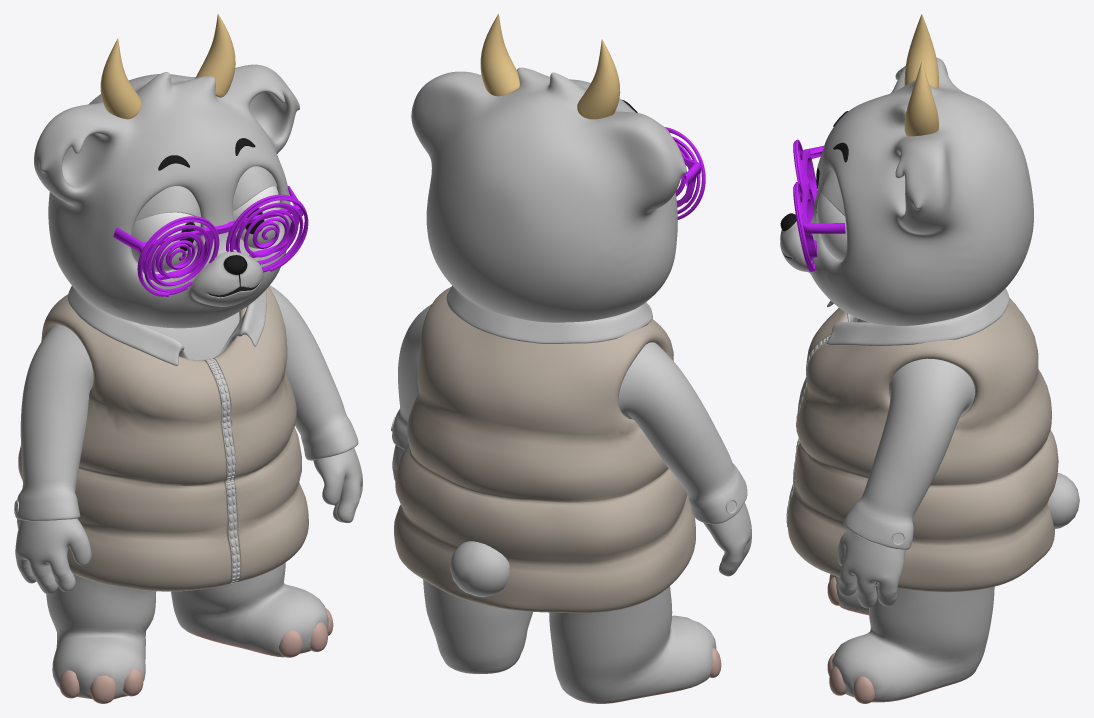
Rendered from panda1.glb.
The picture shows the model from 3 angles, left to right: view 1: azimuth 30°, elevation 25°; view 2: azimuth 150°, elevation 25°; view 3: azimuth 270°, elevation 25°; orthographic projection. The views are drawn at different scales.
Parts seen in each view (by area): view 1: Retopo_Body.003, Head_FACE.003, Body.002, Body.031, Swirl Shape.4_Green.2_0, Vert, Head_FACE.015, Eyelid.009, Retopo_Body.012; view 2: Retopo_Body.003, Head_FACE.003, Body.002, Body.031, Vert, Swirl Shape.4_Green.2_0; view 3: Retopo_Body.003, Head_FACE.003, Body.002, Body.031, Vert, Swirl Shape.4_Green.2_0, Head_FACE.015, Eyelid.009.
Boxes of the visible parts, x1,y1,x2,y2 form: Retopo_Body.003: [17, 286, 308, 591]; Head_FACE.003: [34, 64, 299, 328]; Body.002: [15, 312, 362, 703]; Body.031: [14, 285, 358, 521]; Swirl Shape.4_Green.2_0: [113, 186, 308, 296]; Vert: [100, 14, 235, 119]; Head_FACE.015: [131, 186, 280, 271]; Eyelid.009: [135, 166, 277, 221]; Retopo_Body.012: [206, 358, 240, 584]; Retopo_Body.003: [394, 286, 695, 613]; Head_FACE.003: [411, 67, 686, 322]; Body.002: [392, 445, 751, 703]; Body.031: [391, 285, 747, 524]; Vert: [480, 14, 620, 119]; Swirl Shape.4_Green.2_0: [665, 127, 705, 219]; Retopo_Body.003: [787, 297, 1058, 592]; Head_FACE.003: [780, 57, 1033, 325]; Body.002: [827, 319, 1079, 703]; Body.031: [827, 288, 1009, 549]; Vert: [904, 14, 938, 136]; Swirl Shape.4_Green.2_0: [793, 139, 845, 271]; Head_FACE.015: [816, 157, 846, 261]; Eyelid.009: [820, 152, 844, 215].
Bounding box in the file's own units: 6.14 × 10.79 × 4.83.
9 materials, 3 textured.
